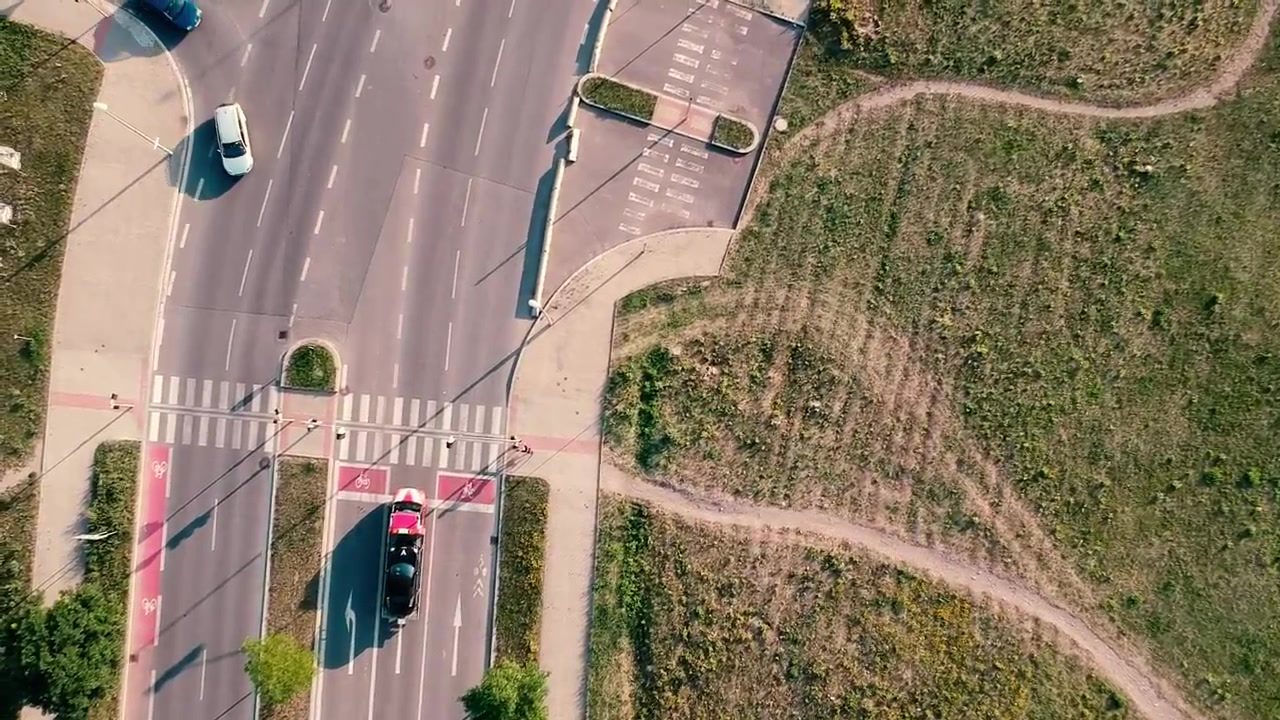car: (377, 485, 428, 626), (213, 97, 255, 178), (141, 1, 203, 35)
